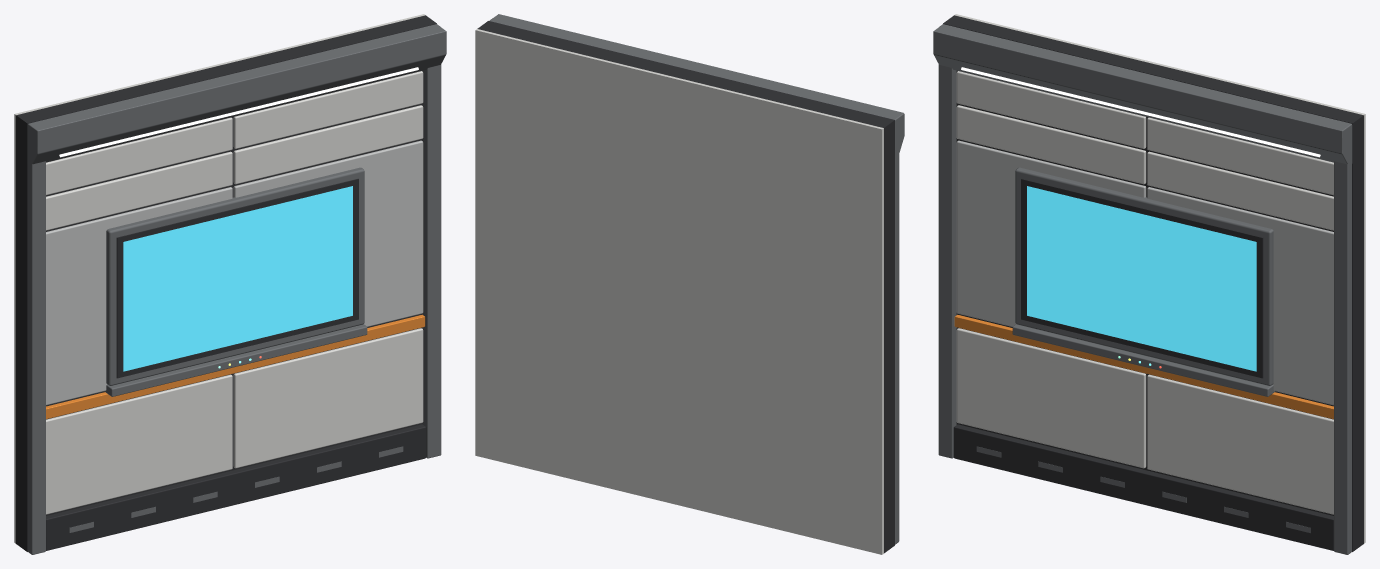
Rendered from kit_wall_screen.glb.
3 renders of one model, left to right at view 1: azimuth 30°, elevation 25°; view 2: azimuth 150°, elevation 25°; view 3: azimuth 330°, elevation 25°, orthographic.
Parts seen in each view (by area): view 1: kit_wall_screen; view 2: kit_wall_screen; view 3: kit_wall_screen.
Part boxes in pixels (x1,y1,x2,y2): kit_wall_screen: (14,14,446,554); kit_wall_screen: (475,14,904,554); kit_wall_screen: (933,14,1365,554).
Bounding box in the file's own units: 4 × 4 × 0.39.
